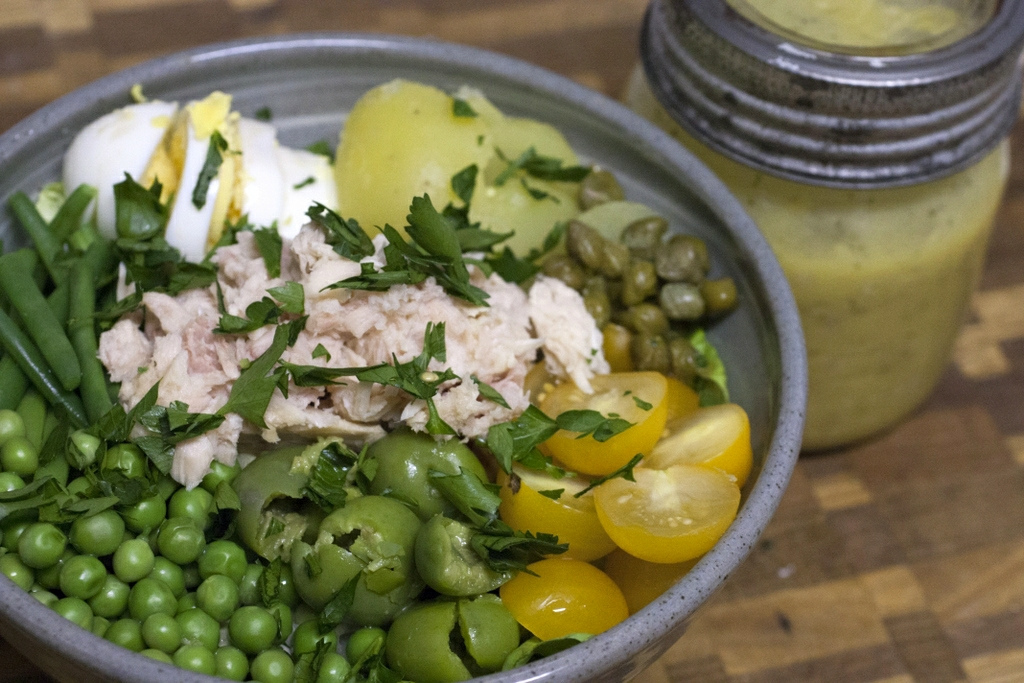boiled peas: (6, 453, 268, 666)
